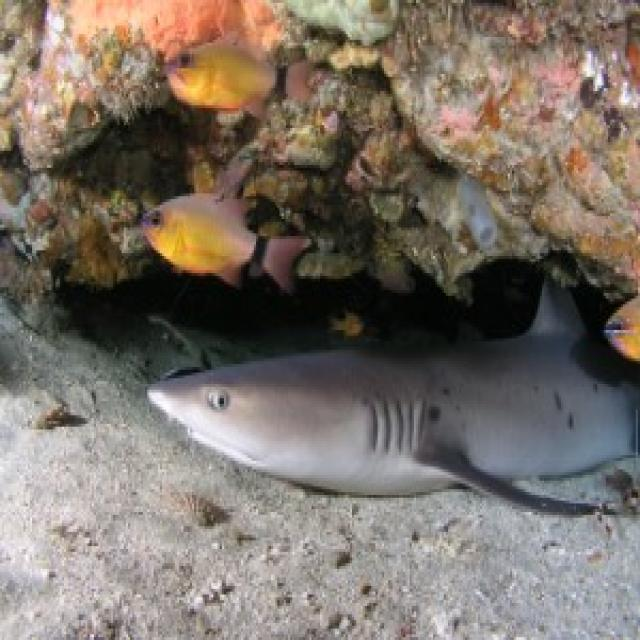Shark: (149, 286, 640, 531)
